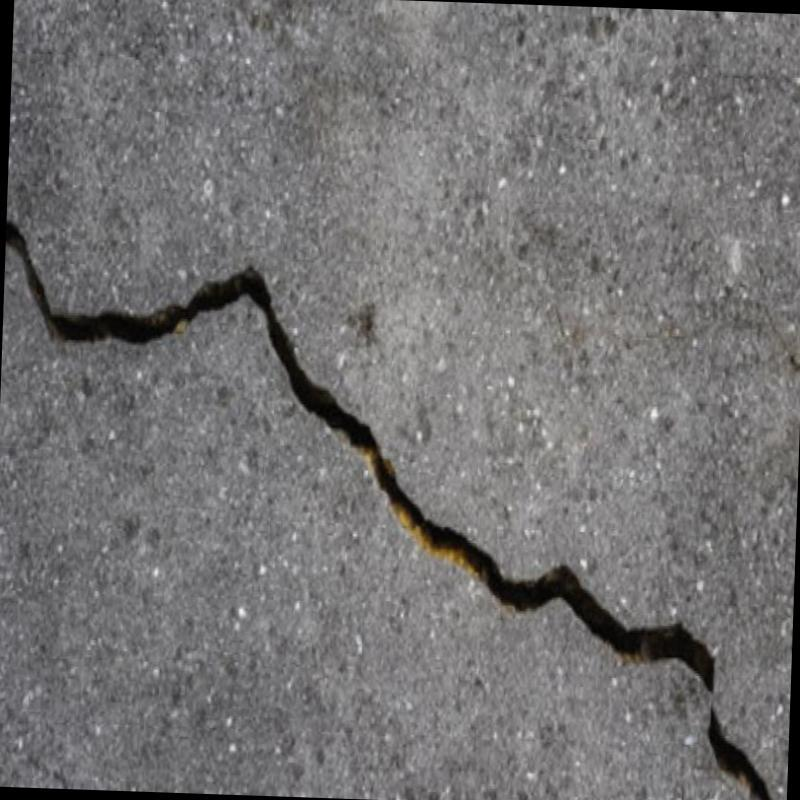crack: (5, 221, 770, 800)
